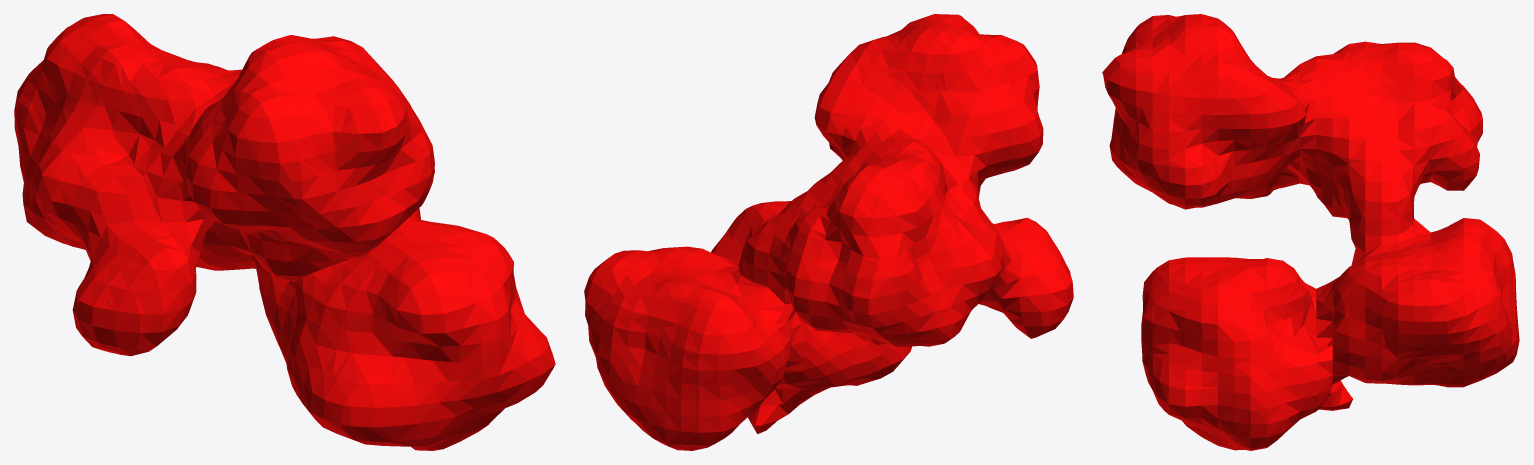
Rendered from relB_coarse.dae.
3 views of the same model, side by side, from view 1: azimuth 30°, elevation 25°; view 2: azimuth 150°, elevation 25°; view 3: azimuth 270°, elevation 25° (orthographic). The views are drawn at different scales.
Visible parts, largest first — view 1: relB; view 2: relB; view 3: relB.
Part boxes in pixels (x1=…): relB: x1=14, y1=14, x2=555, y2=450; relB: x1=584, y1=14, x2=1073, y2=450; relB: x1=1102, y1=14, x2=1519, y2=450.
Bounding box in the file's own units: 73.42 × 71.81 × 75.75.
